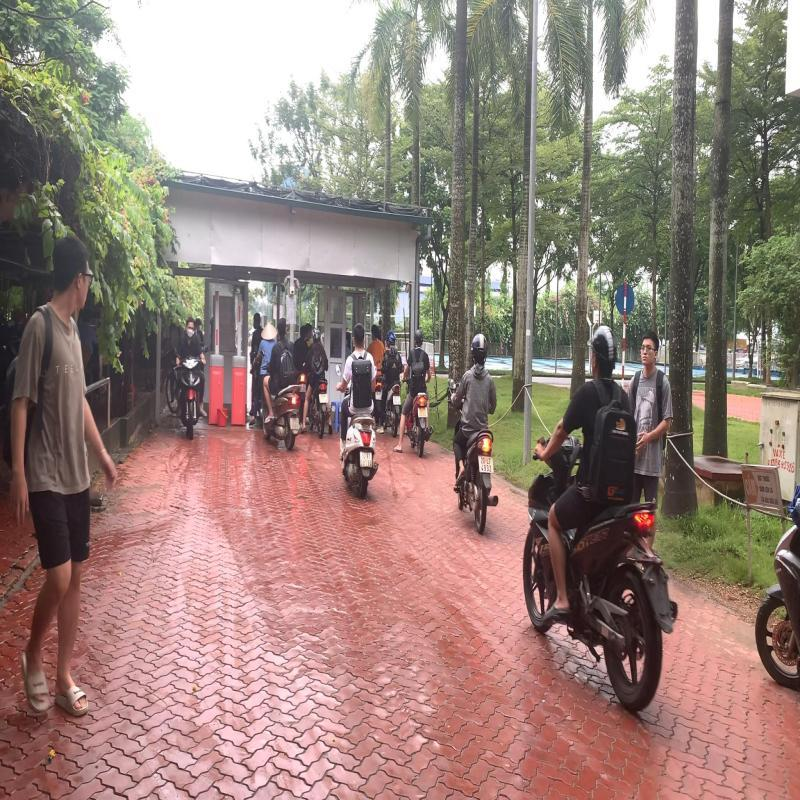licenseplate: (359, 450, 374, 469)
motorcyclist: (334, 320, 380, 502)
nohelmet: (352, 322, 366, 349)
